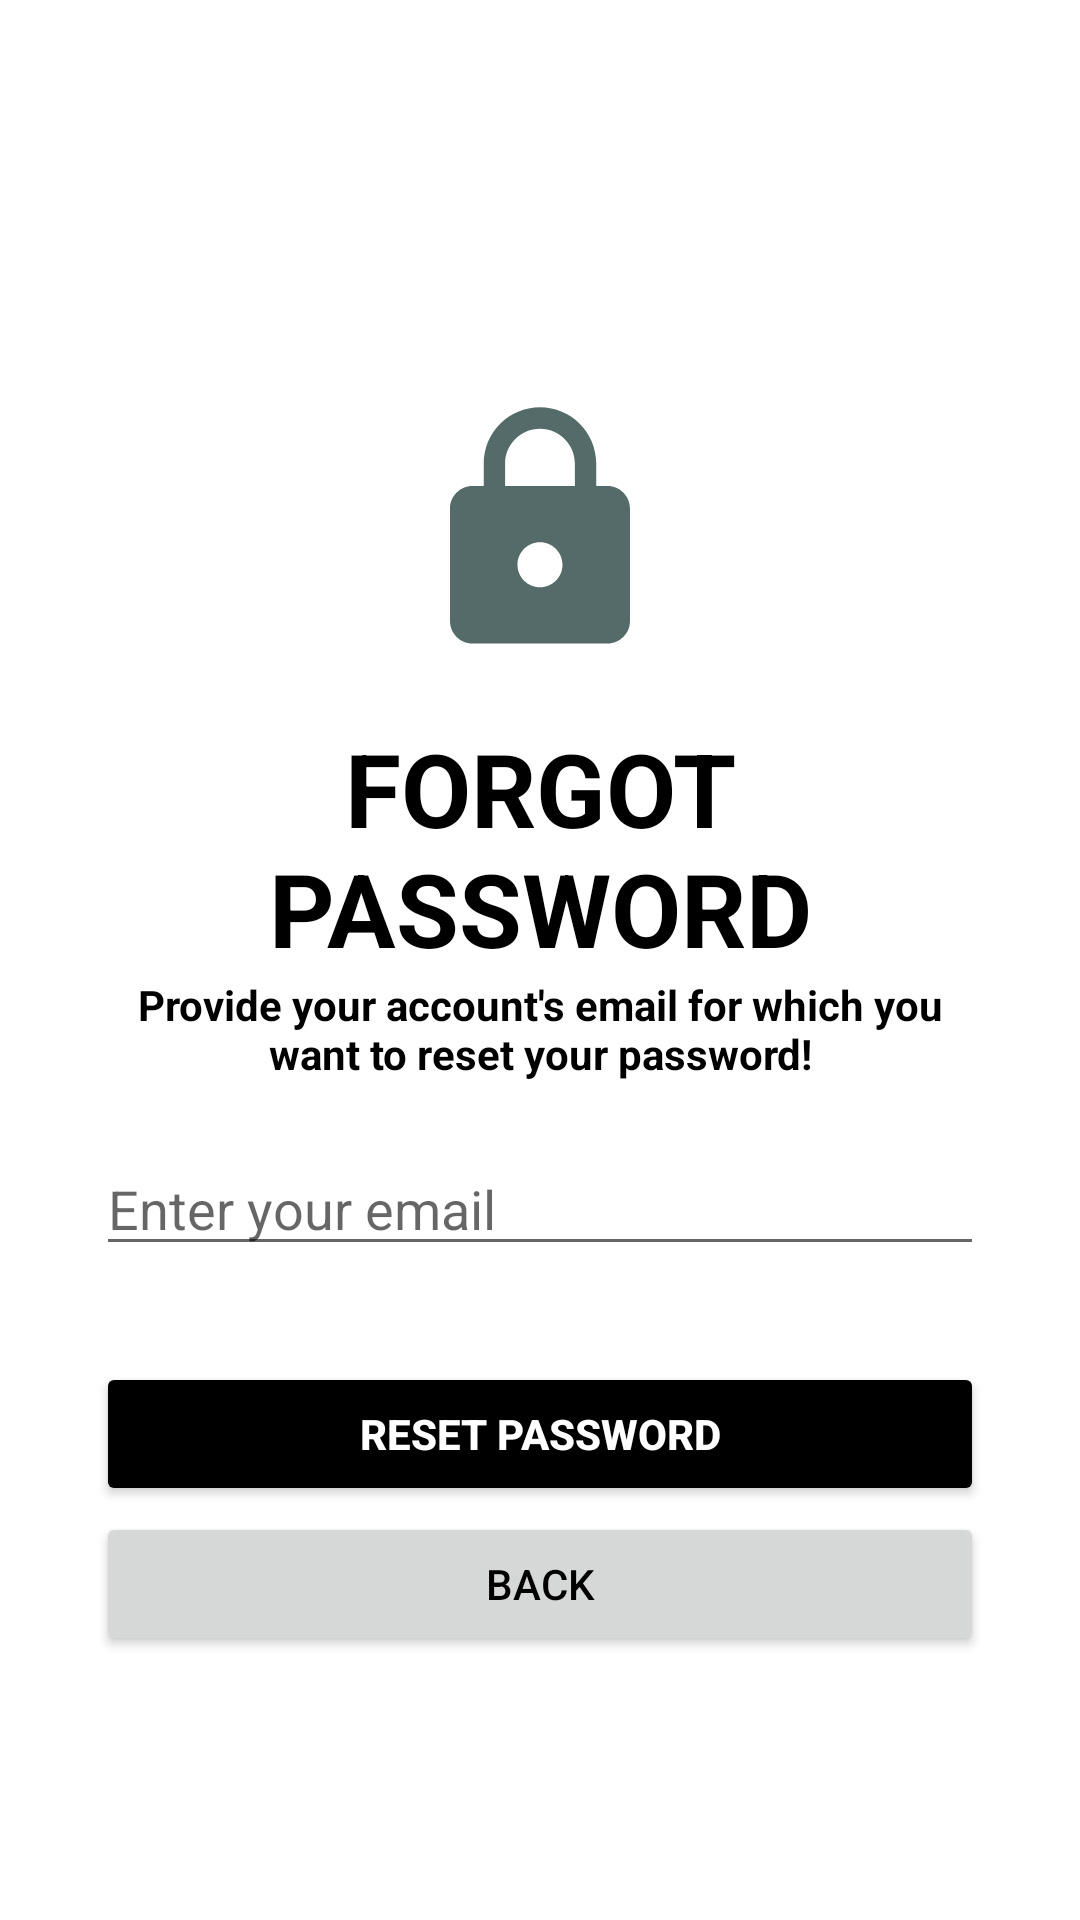

Named icons in this screenshot (1080 x 1920) and their bounding boxes, (x1, y1, x2, y2):
lock: (450, 407, 630, 644)
